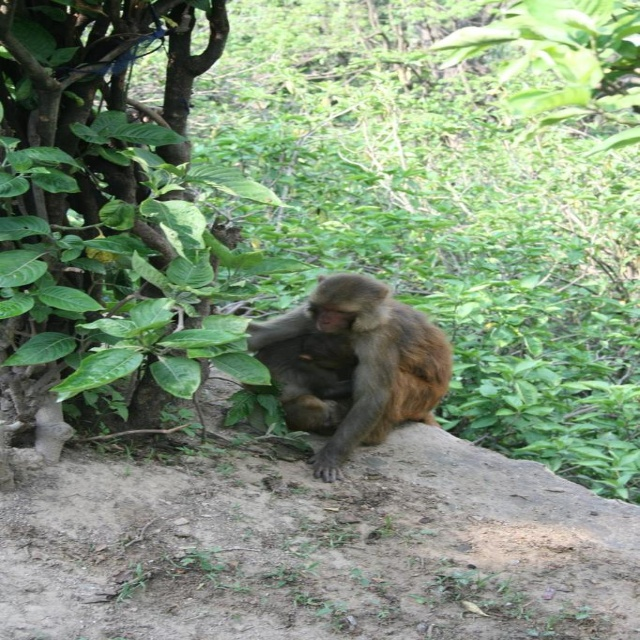Monkey: (251, 274, 454, 481)
